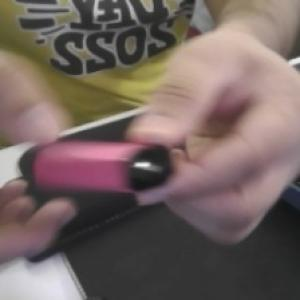Blume-E-Ciggirate: (18, 139, 185, 194)
